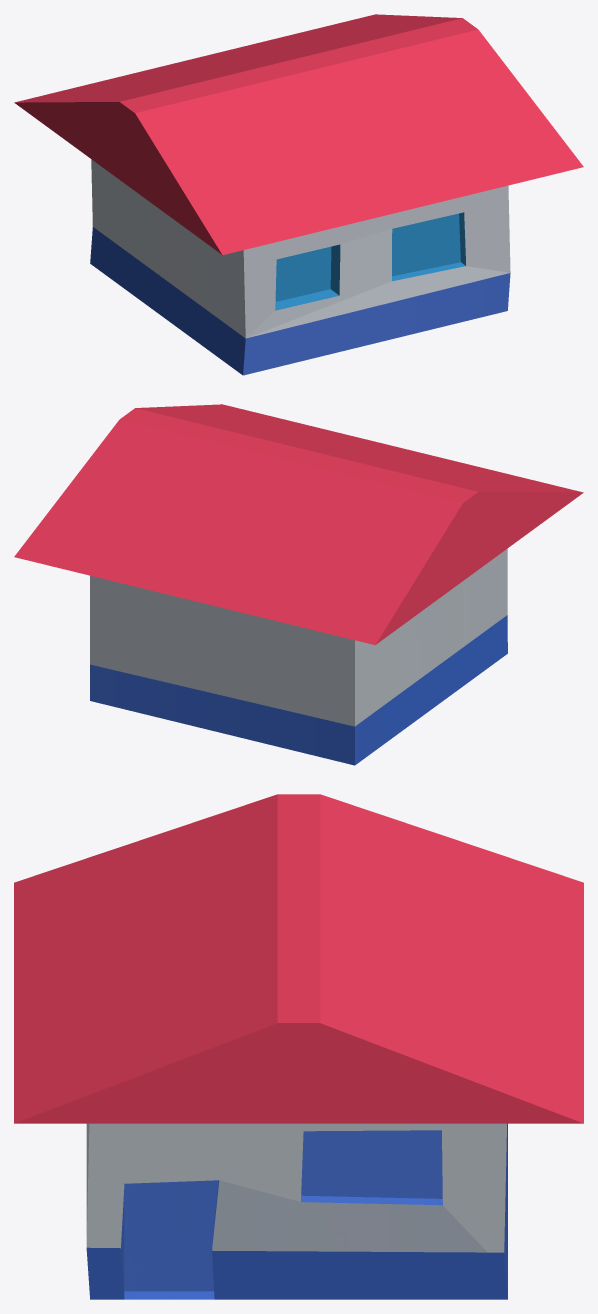
Rendered from casa_7_5.glb.
3 views of the same model, one above another, from view 1: azimuth 30°, elevation 25°; view 2: azimuth 150°, elevation 25°; view 3: azimuth 270°, elevation 25° (orthographic). The views are drawn at different scales.
Visible parts, largest first — view 1: Cube; view 2: Cube; view 3: Cube.
Part boxes in pixels (box(x1,y1,x2,y2)): Cube: box(14, 14, 583, 375); Cube: box(14, 404, 583, 765); Cube: box(14, 794, 583, 1299).
Size of what is drawn, in the model's own units: 25.66 by 15.04 by 25.66.
1 material, 1 textured.
